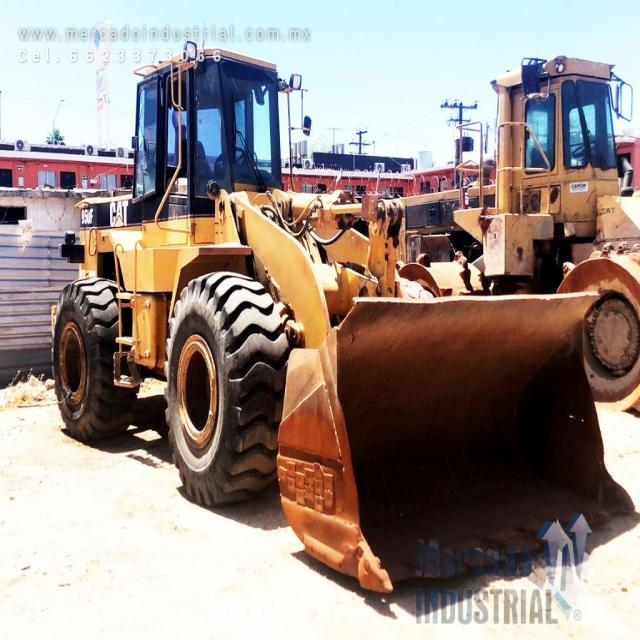buldozerpayloadergrader: (52, 38, 640, 601)
